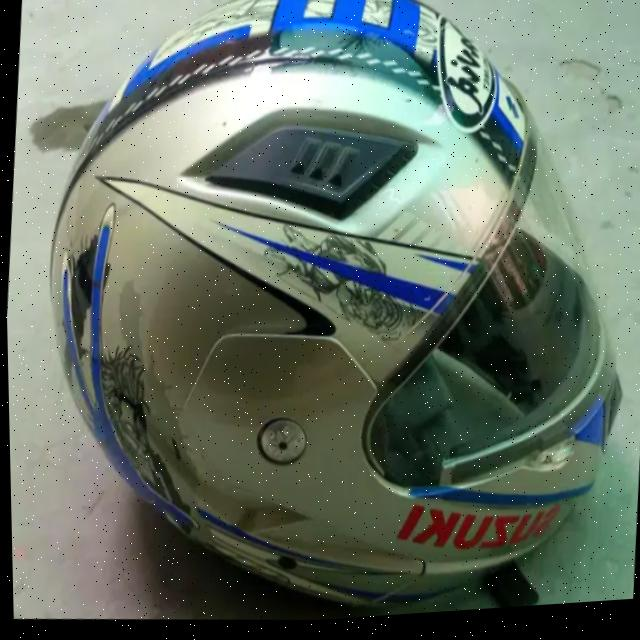Helmet: (0, 0, 622, 640)
